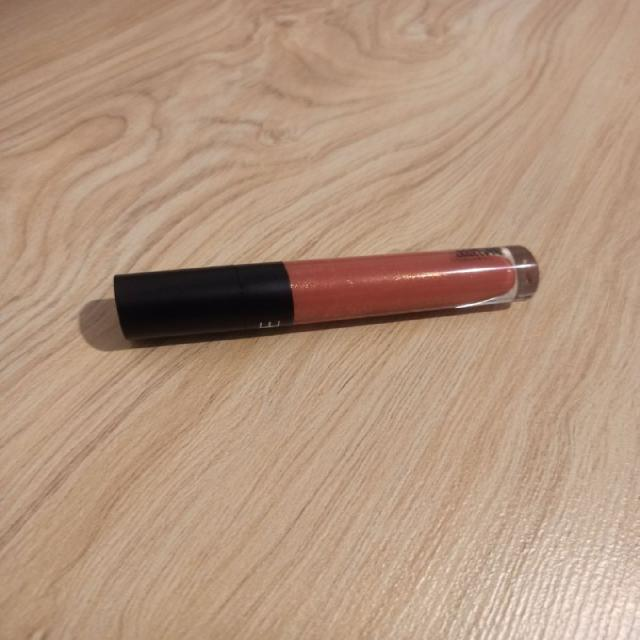lipstick: (112, 244, 540, 342)
